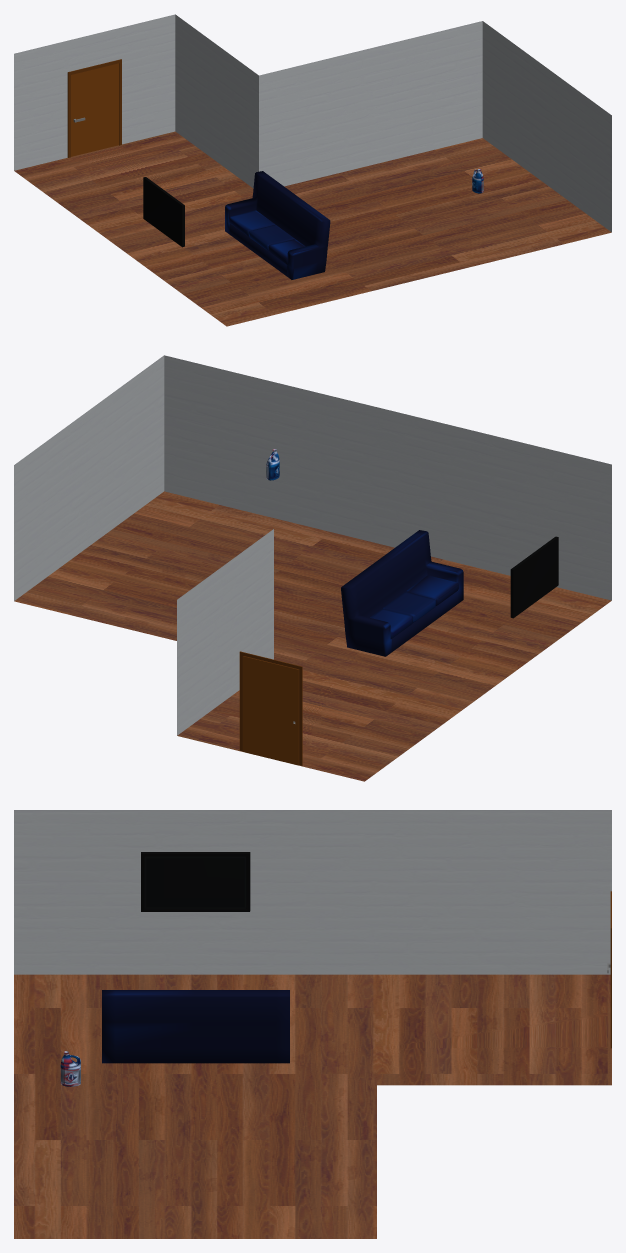
Rendered from room.glb.
The picture shows the model from 3 angles, top to bottom: view 1: azimuth 30°, elevation 25°; view 2: azimuth 150°, elevation 25°; view 3: azimuth 270°, elevation 25°; orthographic projection. The views are drawn at different scales.
Visible parts, largest first — view 1: room, sofaa, base.423; view 2: room, sofaa, base.423; view 3: room, sofaa, base.423, Bleach.
Part boxes in pixels (x1=…): room: x1=14, y1=14, x2=611, y2=326; sofaa: x1=225, y1=171, x2=330, y2=279; base.423: x1=143, y1=177, x2=184, y2=247; room: x1=14, y1=355, x2=611, y2=781; sofaa: x1=341, y1=530, x2=463, y2=656; base.423: x1=510, y1=536, x2=558, y2=618; room: x1=14, y1=810, x2=611, y2=1238; sofaa: x1=102, y1=990, x2=289, y2=1063; base.423: x1=141, y1=852, x2=250, y2=911; Bleach: x1=60, y1=1051, x2=80, y2=1086.
Bounding box in the file's own units: 103 × 30.31 × 98.81.
Materials: 10 (2 with a texture image).
